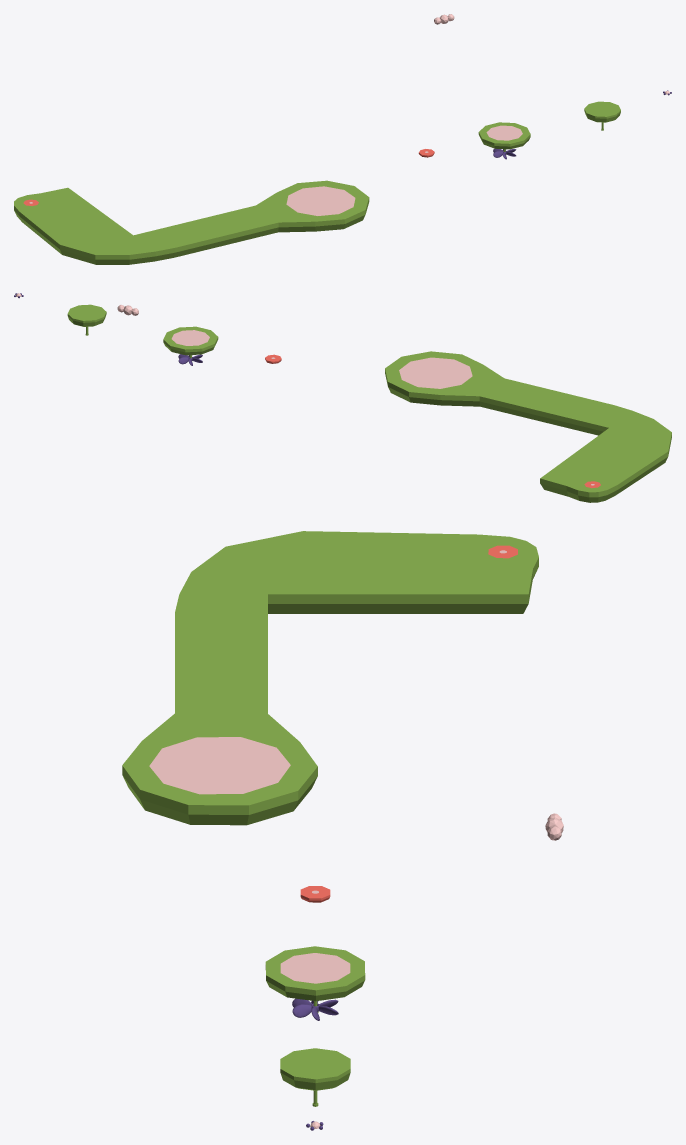
Rendered from Levels.fbx.
The picture shows the model from 3 angles, top to bottom: view 1: azimuth 30°, elevation 25°; view 2: azimuth 150°, elevation 25°; view 3: azimuth 270°, elevation 25°; orthographic projection. The views are drawn at different scales.
Visible parts, largest first — view 1: Plane, Start, Platform; view 2: Plane, Start, Platform; view 3: Plane, Start, Platform.
Boxes of the visible parts, bbox=[...] form: Plane: bbox=[14, 180, 369, 264]; Start: bbox=[478, 122, 530, 151]; Platform: bbox=[584, 101, 620, 130]; Plane: bbox=[385, 351, 671, 502]; Start: bbox=[163, 326, 218, 361]; Platform: bbox=[67, 304, 106, 335]; Plane: bbox=[122, 531, 538, 825]; Start: bbox=[265, 946, 365, 1012]; Platform: bbox=[280, 1048, 350, 1106].
Size of the model in its own units: 15110 by 2272 by 4703.
